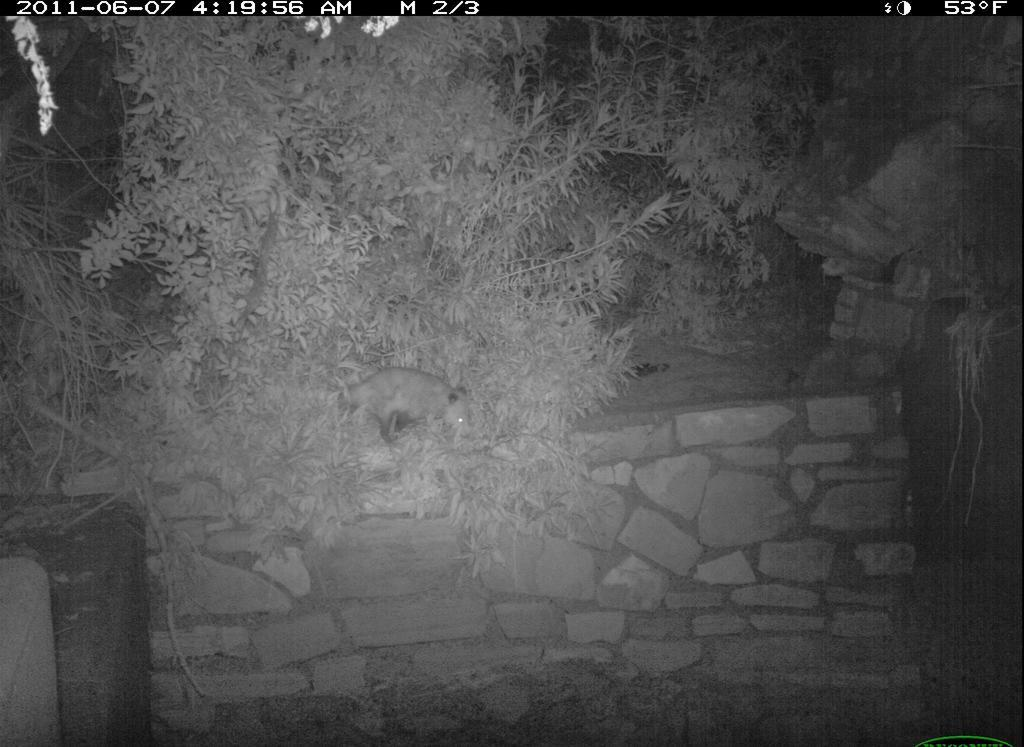opossum: (303, 359, 528, 466)
